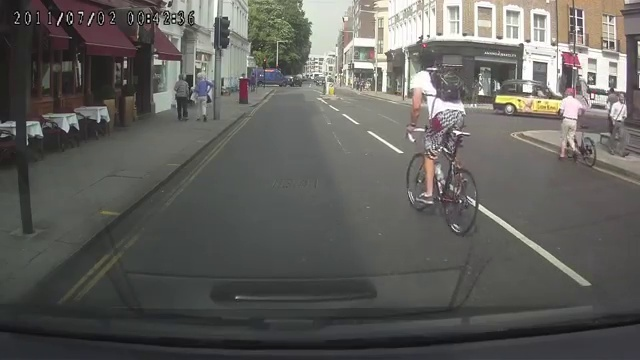cyclist_back: (404, 54, 482, 231), (553, 88, 596, 169)
